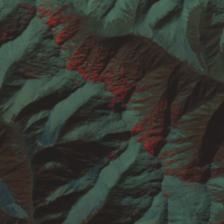landslides: (55, 147, 69, 167)
